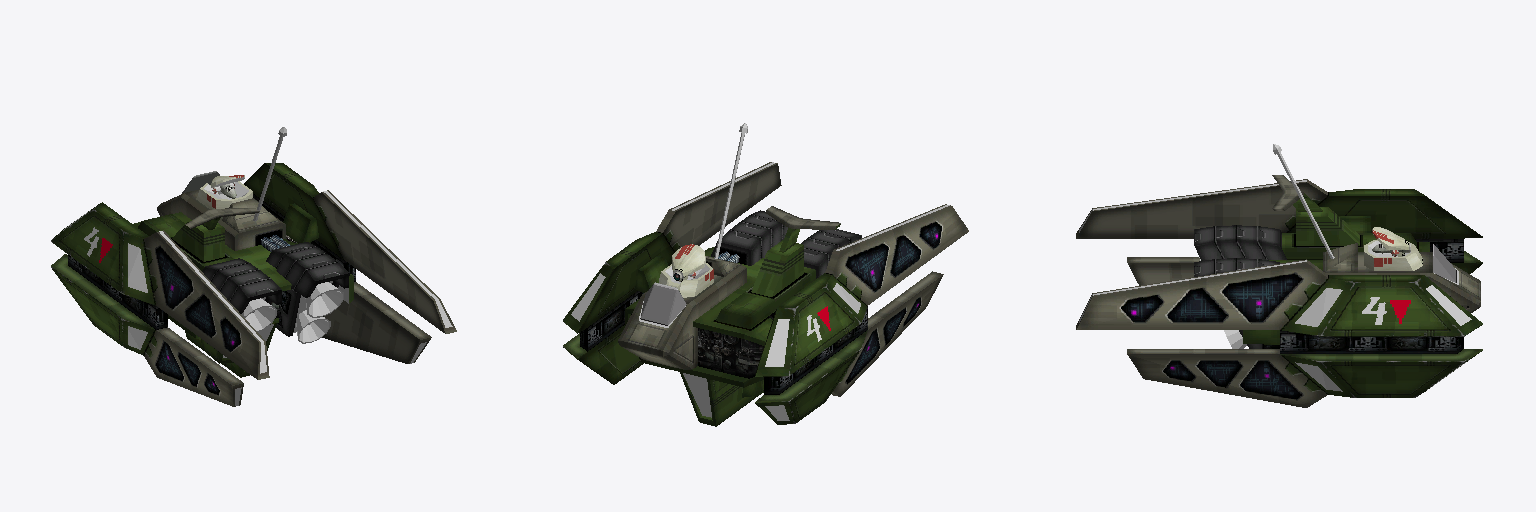
3 renders of one model, left to right at view 1: azimuth 30°, elevation 25°; view 2: azimuth 150°, elevation 25°; view 3: azimuth 270°, elevation 25°, orthographic.
Visible parts, largest first — view 1: 39_ragnarock_a; view 2: 39_ragnarock_a; view 3: 39_ragnarock_a.
Boxes of the visible parts, x1,y1,x2,y2 form: 39_ragnarock_a: [51, 127, 456, 406]; 39_ragnarock_a: [563, 123, 968, 426]; 39_ragnarock_a: [1076, 144, 1482, 407].
Bounding box in the file's own units: 2.45 × 2.58 × 3.8.
Materials: 24 (10 with a texture image).